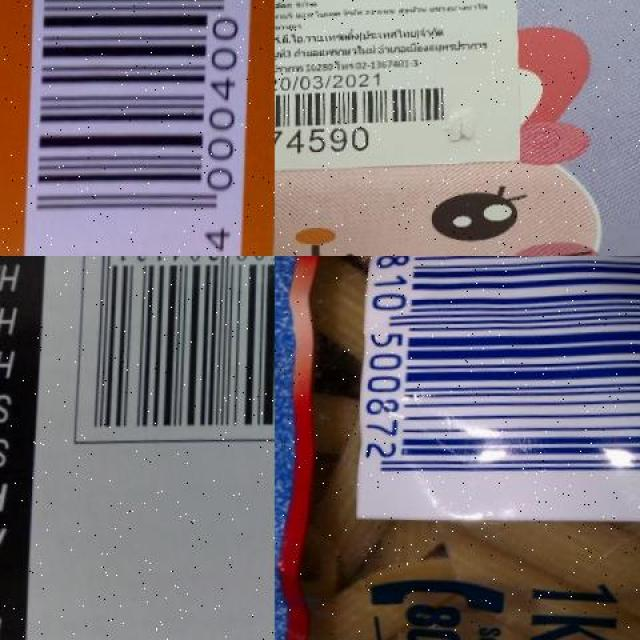Barcode: (360, 256, 640, 520), (26, 0, 262, 256), (76, 256, 275, 448), (275, 84, 468, 161)
